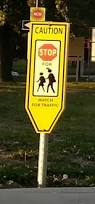stop_sign: (27, 21, 65, 132)
